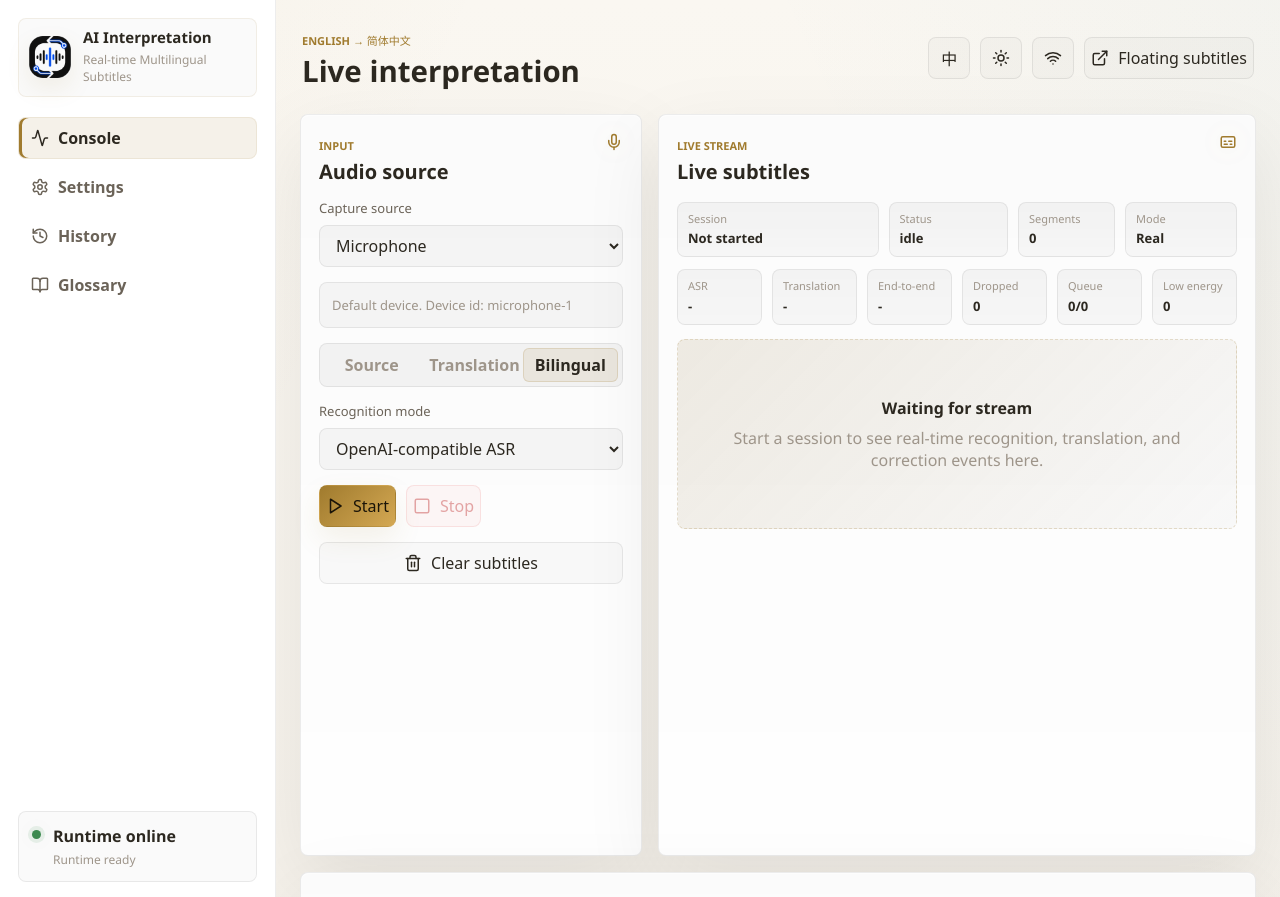
Test: App desktop flows › starts and stops a session
Expected: the text "Runtime ready" is shown, [53, 851, 136, 868]
Click the button "Start".
click(357, 506)  # box [319, 485, 396, 527]
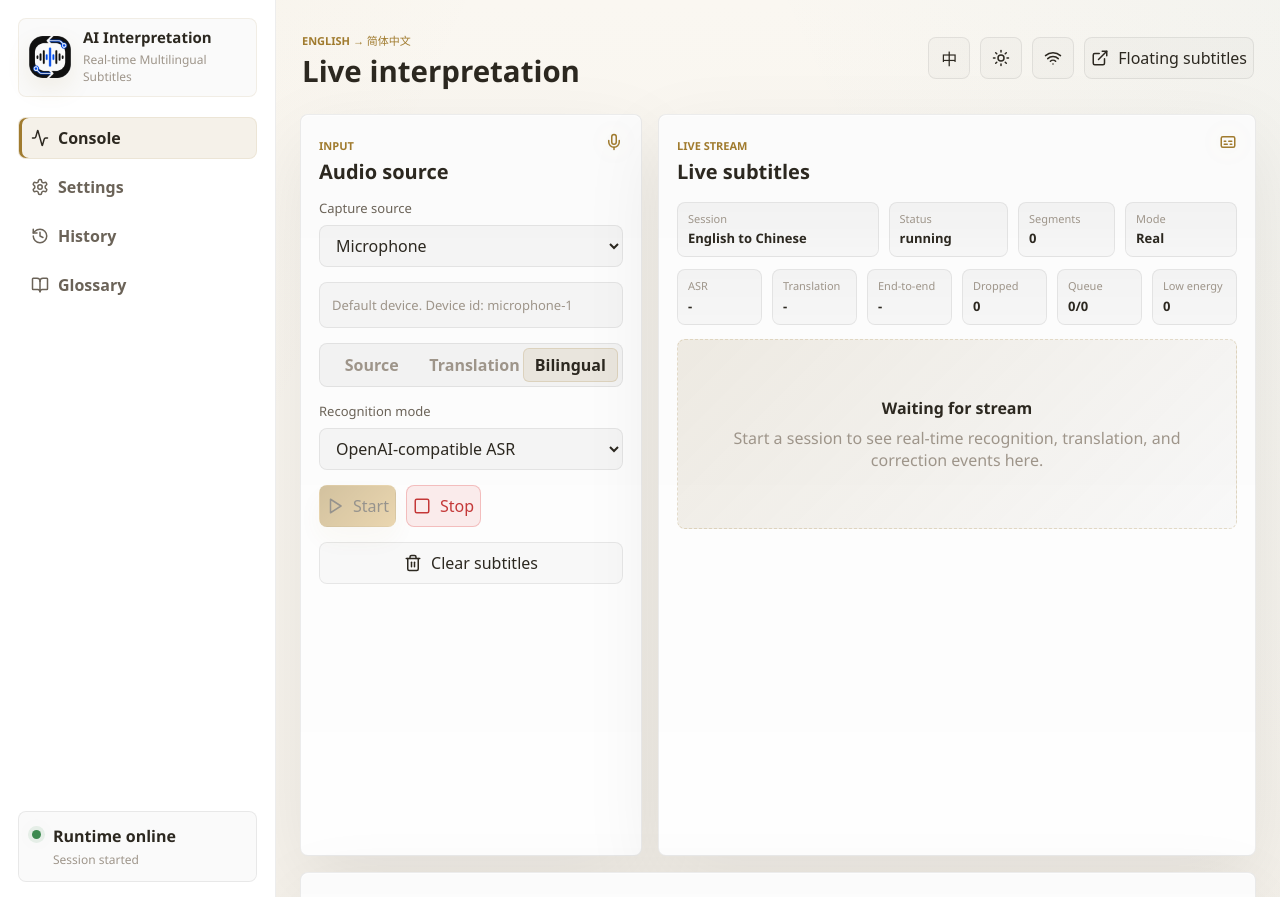
Now the text "Session started" is shown, box [53, 851, 139, 868]
Click the button "Stop".
click(443, 506)  # box [406, 485, 481, 527]
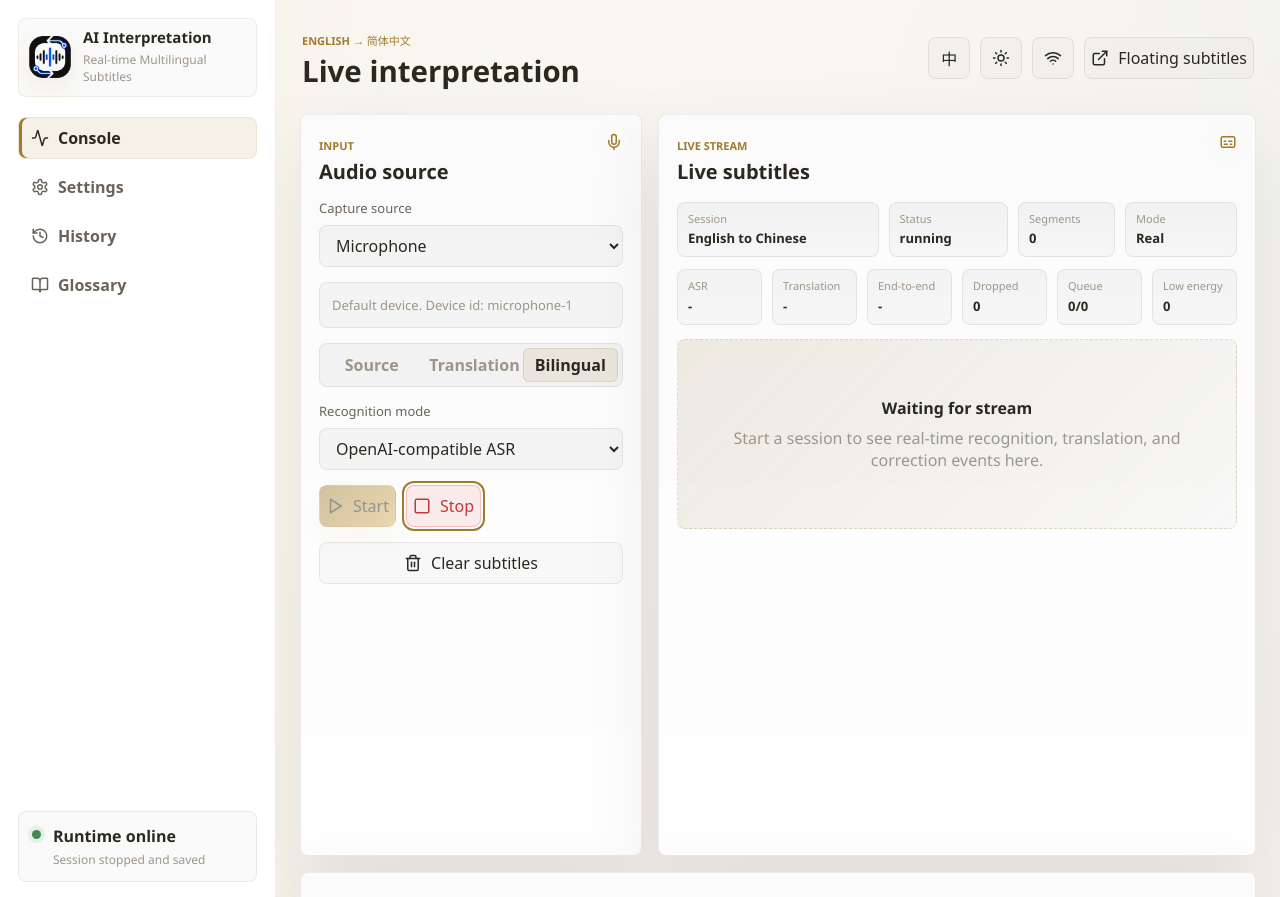
Now the text "Session stopped and saved" is shown, box [53, 851, 206, 868]
